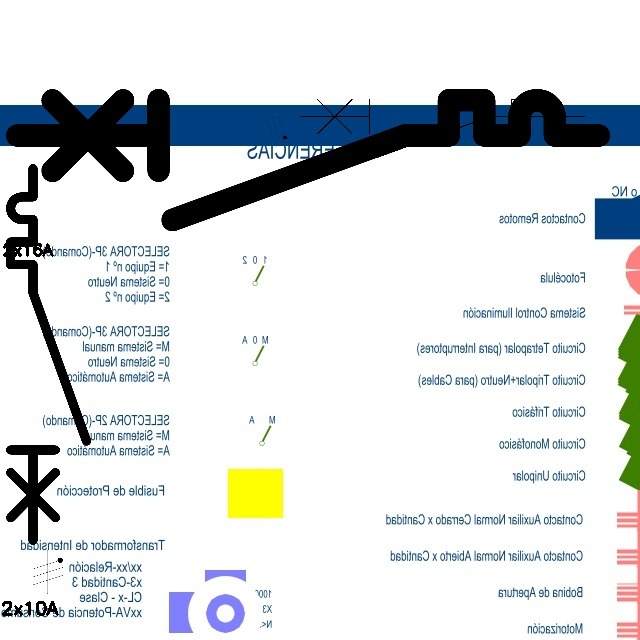interruptor_termomagnetico: (2, 85, 614, 235), (1, 159, 96, 550), (292, 92, 591, 165)
